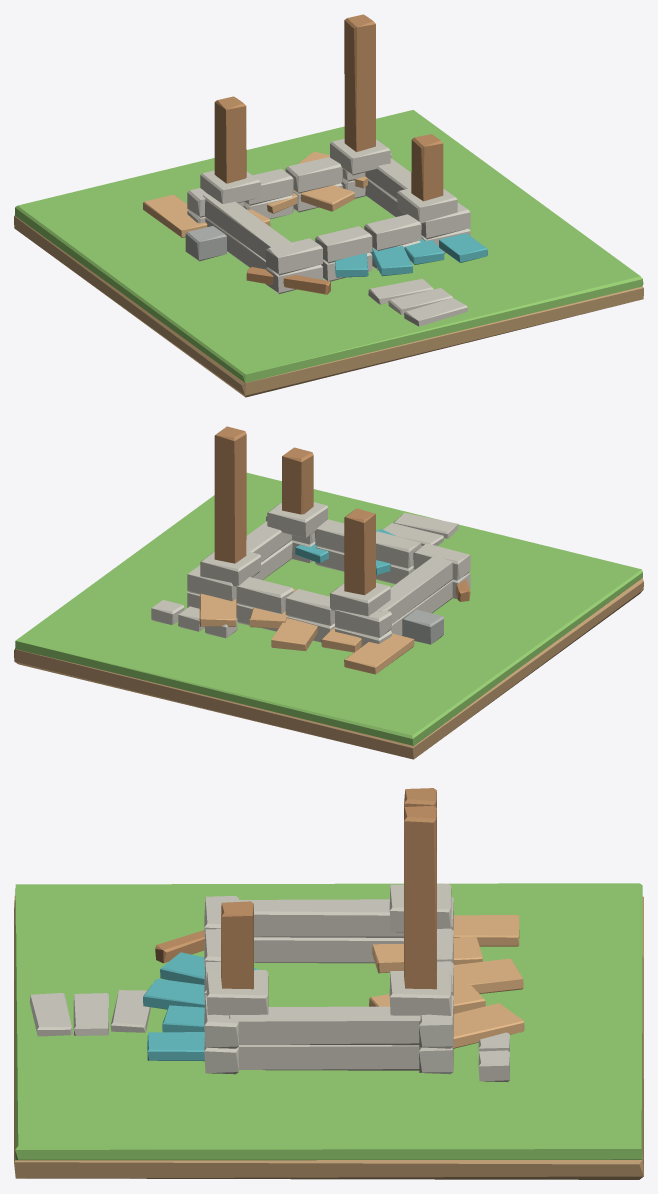
Rendered from tower_l01_ruined_LOD1.glb.
3 renders of one model, top to bottom at view 1: azimuth 30°, elevation 25°; view 2: azimuth 150°, elevation 25°; view 3: azimuth 270°, elevation 25°, orthographic. The views are drawn at different scales.
Visible parts, largest first — view 1: tower_l01_grass_tile_tower_l01_ruined_LOD1_tmp, tower_l01_earth_tile_tower_l01_ruined_LOD1_tmp, snapped_upright_0.58_0.52_tower_l01_ruined_LOD1_tmp, snapped_upright_-0.58_0.52_tower_l01_ruined_LOD1_tmp, ruin_stone_return_1_-0.72_tower_l01_ruined_LOD1_tmp, snapped_upright_0.58_-0.52_tower_l01_ruined_LOD1_tmp, ruin_stone_course_1_-1_0_tower_l01_ruined_LOD1_tmp, ruin_stone_course_1_-1_2_tower_l01_ruined_LOD1_tmp, ruin_stone_course_1_1_2_tower_l01_ruined_LOD1_tmp, ruin_stone_course_1_-1_1_tower_l01_ruined_LOD1_tmp, foot_remnant_0.58_0.52_tower_l01_ruined_LOD1_tmp, collapsed_deck_0_tower_l01_ruined_LOD1_tmp (+18 smaller); view 2: tower_l01_grass_tile_tower_l01_ruined_LOD1_tmp, tower_l01_earth_tile_tower_l01_ruined_LOD1_tmp, snapped_upright_0.58_0.52_tower_l01_ruined_LOD1_tmp, snapped_upright_-0.58_0.52_tower_l01_ruined_LOD1_tmp, ruin_stone_return_1_-0.72_tower_l01_ruined_LOD1_tmp, snapped_upright_0.58_-0.52_tower_l01_ruined_LOD1_tmp, collapsed_deck_0_tower_l01_ruined_LOD1_tmp, ruin_stone_course_1_1_2_tower_l01_ruined_LOD1_tmp, foot_remnant_0.58_-0.52_tower_l01_ruined_LOD1_tmp, foot_remnant_0.58_0.52_tower_l01_ruined_LOD1_tmp, foot_remnant_-0.58_0.52_tower_l01_ruined_LOD1_tmp, ruin_stone_course_1_1_1_tower_l01_ruined_LOD1_tmp (+17 smaller); view 3: tower_l01_grass_tile_tower_l01_ruined_LOD1_tmp, tower_l01_earth_tile_tower_l01_ruined_LOD1_tmp, ruin_stone_return_1_0.72_tower_l01_ruined_LOD1_tmp, snapped_upright_0.58_0.52_tower_l01_ruined_LOD1_tmp, ruin_stone_return_1_-0.72_tower_l01_ruined_LOD1_tmp, ruin_stone_return_0_0.72_tower_l01_ruined_LOD1_tmp, ruin_stone_return_0_-0.72_tower_l01_ruined_LOD1_tmp, snapped_upright_0.58_-0.52_tower_l01_ruined_LOD1_tmp, foot_remnant_0.58_0.52_tower_l01_ruined_LOD1_tmp, foot_remnant_0.58_-0.52_tower_l01_ruined_LOD1_tmp, collapsed_deck_4_tower_l01_ruined_LOD1_tmp, collapsed_deck_0_tower_l01_ruined_LOD1_tmp (+21 smaller).
Part boxes in pixels (x1,y1,x2,y2): tower_l01_grass_tile_tower_l01_ruined_LOD1_tmp: (15,110,643,383); tower_l01_earth_tile_tower_l01_ruined_LOD1_tmp: (14,215,643,397); snapped_upright_0.58_0.52_tower_l01_ruined_LOD1_tmp: (344,14,375,151); snapped_upright_-0.58_0.52_tower_l01_ruined_LOD1_tmp: (214,96,246,183); ruin_stone_return_1_-0.72_tower_l01_ruined_LOD1_tmp: (203,194,293,260); snapped_upright_0.58_-0.52_tower_l01_ruined_LOD1_tmp: (411,134,443,201); ruin_stone_course_1_-1_0_tower_l01_ruined_LOD1_tmp: (266,238,322,275); ruin_stone_course_1_-1_2_tower_l01_ruined_LOD1_tmp: (364,214,421,250); ruin_stone_course_1_1_2_tower_l01_ruined_LOD1_tmp: (285,157,342,193); ruin_stone_course_1_-1_1_tower_l01_ruined_LOD1_tmp: (315,226,372,263); foot_remnant_0.58_0.52_tower_l01_ruined_LOD1_tmp: (330,138,390,175); collapsed_deck_0_tower_l01_ruined_LOD1_tmp: (143,194,207,237); tower_l01_grass_tile_tower_l01_ruined_LOD1_tmp: (15,472,642,746); tower_l01_earth_tile_tower_l01_ruined_LOD1_tmp: (14,578,643,759); snapped_upright_0.58_0.52_tower_l01_ruined_LOD1_tmp: (214,426,246,563); snapped_upright_-0.58_0.52_tower_l01_ruined_LOD1_tmp: (344,508,375,595); ruin_stone_return_1_-0.72_tower_l01_ruined_LOD1_tmp: (376,554,452,623); snapped_upright_0.58_-0.52_tower_l01_ruined_LOD1_tmp: (282,447,313,514); collapsed_deck_0_tower_l01_ruined_LOD1_tmp: (344,633,414,674); ruin_stone_course_1_1_2_tower_l01_ruined_LOD1_tmp: (236,577,293,613); foot_remnant_0.58_-0.52_tower_l01_ruined_LOD1_tmp: (267,502,327,537); foot_remnant_0.58_0.52_tower_l01_ruined_LOD1_tmp: (200,551,260,586); foot_remnant_-0.58_0.52_tower_l01_ruined_LOD1_tmp: (330,582,390,616); ruin_stone_course_1_1_1_tower_l01_ruined_LOD1_tmp: (285,589,334,625); tower_l01_grass_tile_tower_l01_ruined_LOD1_tmp: (15,883,642,1160); tower_l01_earth_tile_tower_l01_ruined_LOD1_tmp: (14,896,643,1179); ruin_stone_return_1_0.72_tower_l01_ruined_LOD1_tmp: (229,1006,420,1045); snapped_upright_0.58_0.52_tower_l01_ruined_LOD1_tmp: (404,805,436,989); ruin_stone_return_1_-0.72_tower_l01_ruined_LOD1_tmp: (237,899,403,937); ruin_stone_return_0_0.72_tower_l01_ruined_LOD1_tmp: (238,1044,419,1070); ruin_stone_return_0_-0.72_tower_l01_ruined_LOD1_tmp: (254,937,403,963); snapped_upright_0.58_-0.52_tower_l01_ruined_LOD1_tmp: (221,901,253,989); foot_remnant_0.58_0.52_tower_l01_ruined_LOD1_tmp: (389,970,451,1015); foot_remnant_0.58_-0.52_tower_l01_ruined_LOD1_tmp: (206,970,268,1015); collapsed_deck_4_tower_l01_ruined_LOD1_tmp: (453,1003,524,1048); collapsed_deck_0_tower_l01_ruined_LOD1_tmp: (453,915,519,946).
Size of the model in its own units: 3.6 by 1.76 by 3.58.
